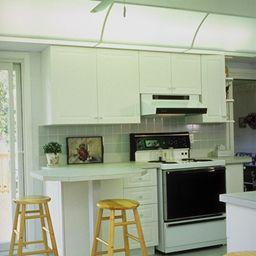Electrodomestico: (151, 137, 226, 250)
